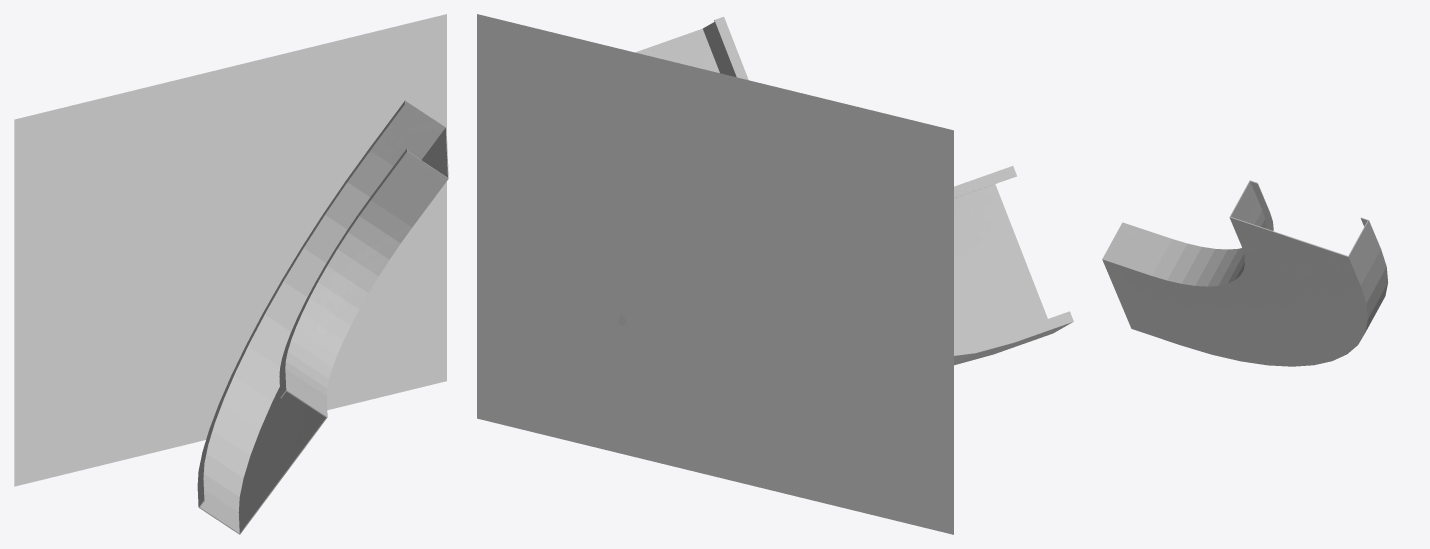
3 renders of one model, left to right at view 1: azimuth 30°, elevation 25°; view 2: azimuth 150°, elevation 25°; view 3: azimuth 270°, elevation 25°, orthographic. The views are drawn at different scales.
Visible parts, largest first — view 1: object 1, node_id29; view 2: object 1, node_id29; view 3: node_id29.
Part boxes in pixels (x1=…): object 1: x1=14, y1=14, x2=446, y2=486; node_id29: x1=197, y1=100, x2=448, y2=534; object 1: x1=477, y1=14, x2=953, y2=534; node_id29: x1=635, y1=16, x2=1073, y2=365; node_id29: x1=1102, y1=180, x2=1388, y2=366.
Bounding box in the file's own units: 0.696 × 0.564 × 0.4848.
Materials: 2 (2 with a texture image).
